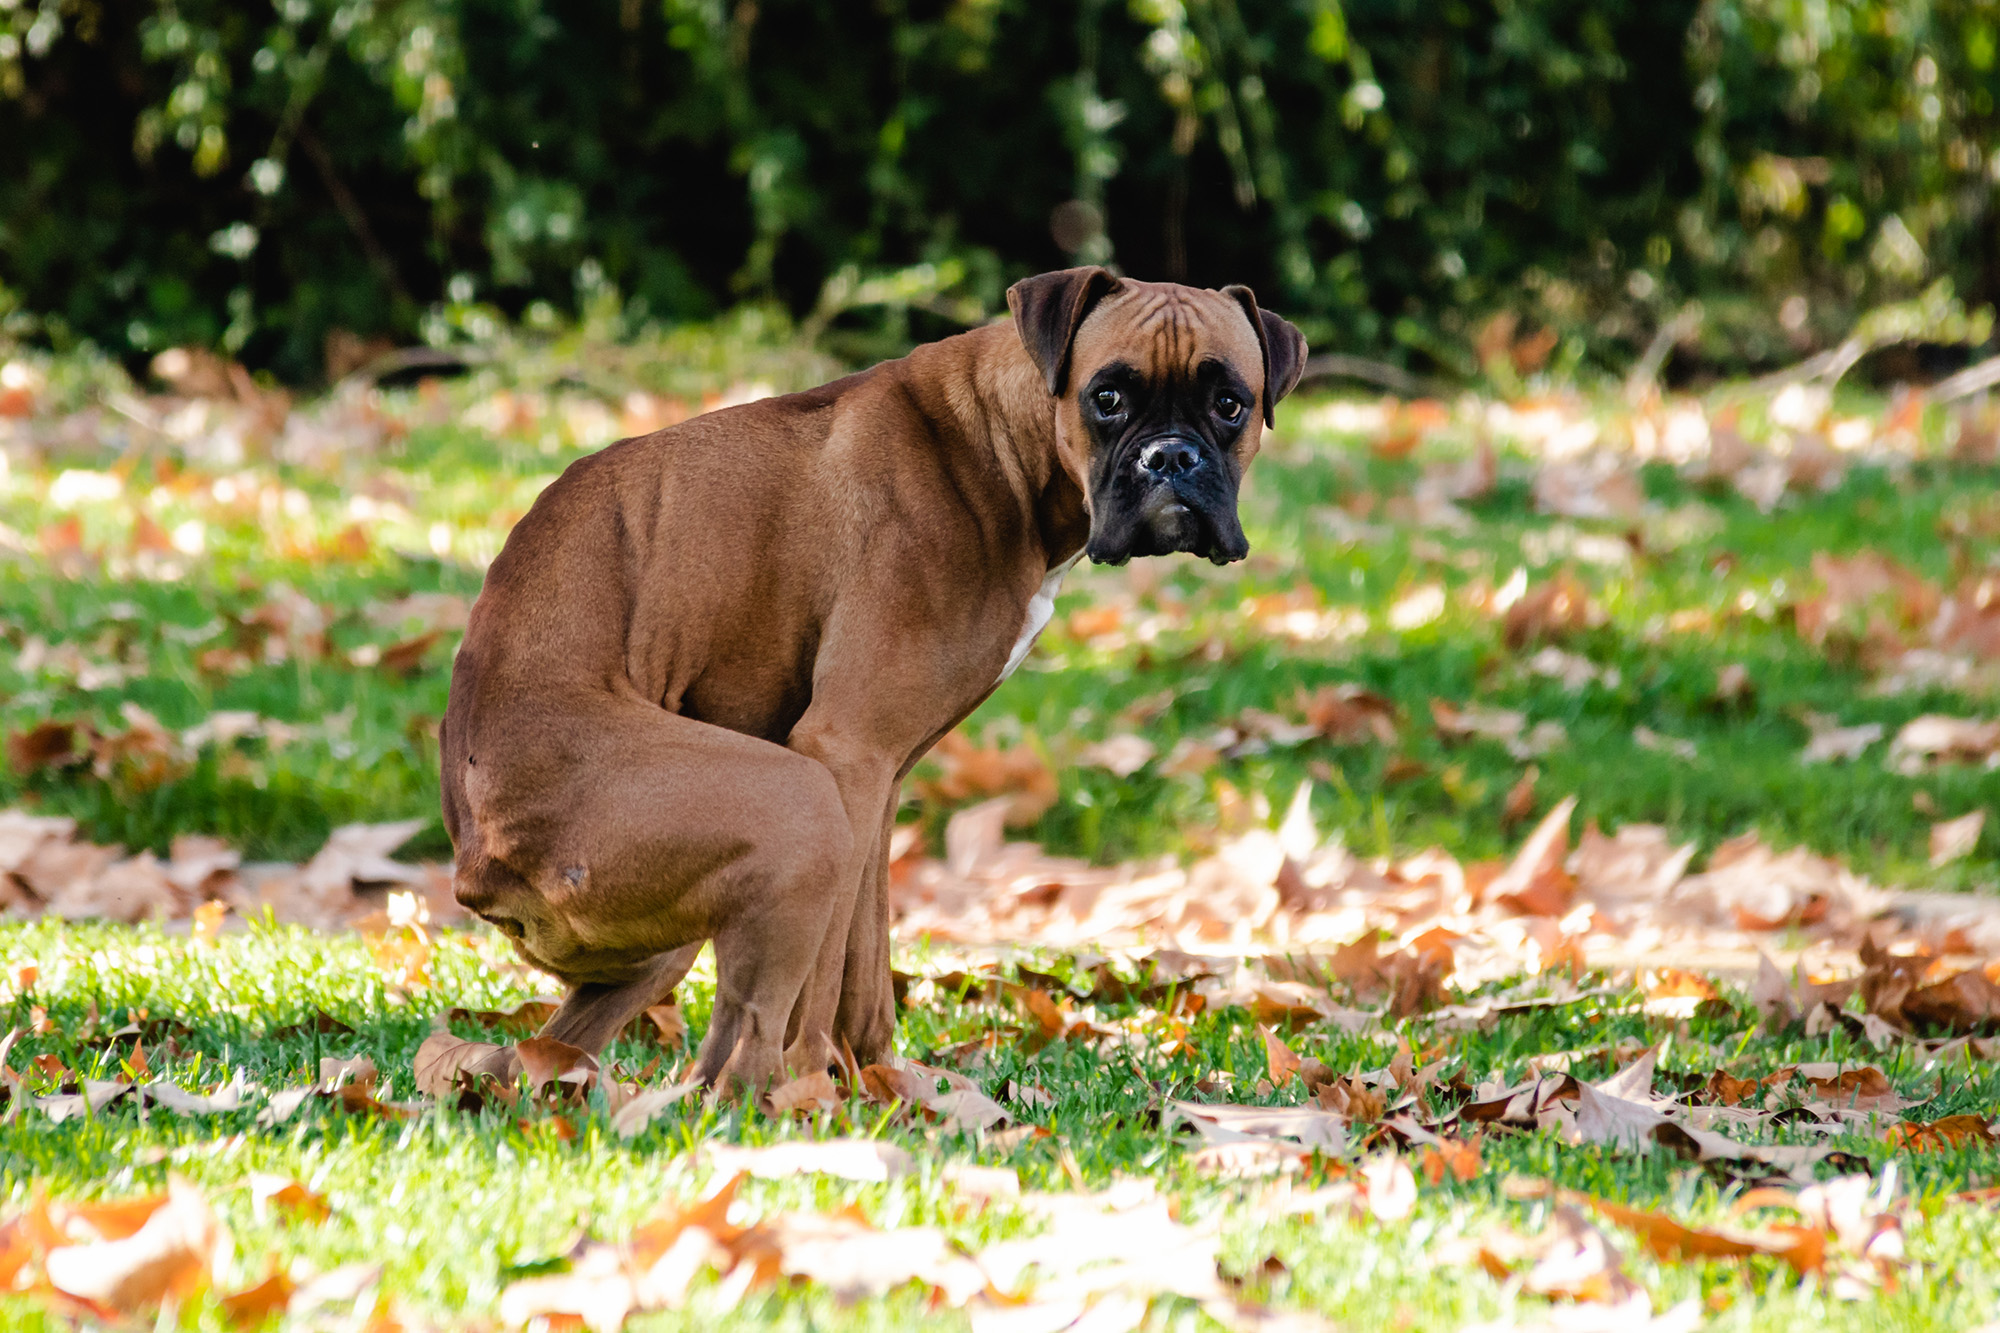dog_pooping: (422, 254, 1316, 1138)
